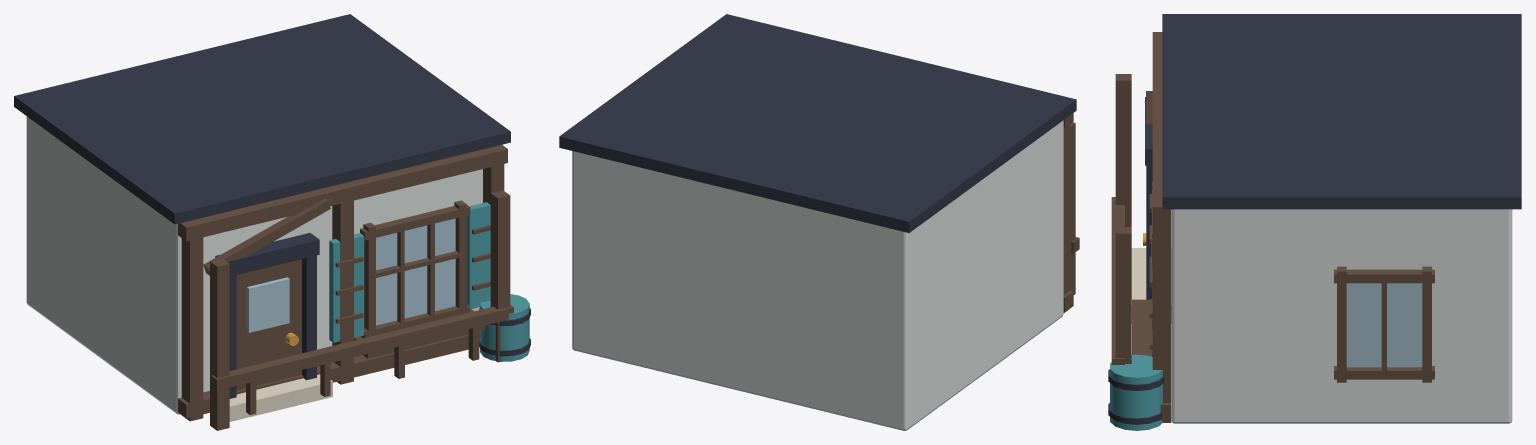
File: floor_banks_0.glb
3 renders of one model, left to right at view 1: azimuth 30°, elevation 25°; view 2: azimuth 150°, elevation 25°; view 3: azimuth 270°, elevation 25°, orthographic. The views are drawn at different scales.
Parts seen in each view (by area): view 1: floor_banks_0 ink, floor_banks_0 wood, floor_banks_0 plaster, floor_banks_0 glass, floor_banks_0 river, floor_banks_0 mist; view 2: floor_banks_0 plaster, floor_banks_0 ink, floor_banks_0 wood; view 3: floor_banks_0 ink, floor_banks_0 plaster, floor_banks_0 wood, floor_banks_0 glass, floor_banks_0 river, floor_banks_0 mist.
Part boxes in pixels (x1=…): floor_banks_0 ink: x1=14, y1=14, x2=530, y2=398; floor_banks_0 wood: x1=178, y1=145, x2=513, y2=430; floor_banks_0 plaster: x1=26, y1=116, x2=482, y2=414; floor_banks_0 glass: x1=246, y1=218, x2=455, y2=332; floor_banks_0 river: x1=329, y1=202, x2=529, y2=361; floor_banks_0 mist: x1=229, y1=374, x2=332, y2=421; floor_banks_0 plaster: x1=572, y1=120, x2=1063, y2=430; floor_banks_0 ink: x1=559, y1=14, x2=1076, y2=232; floor_banks_0 wood: x1=1063, y1=113, x2=1079, y2=312; floor_banks_0 ink: x1=1108, y1=14, x2=1521, y2=424; floor_banks_0 plaster: x1=1171, y1=209, x2=1512, y2=423; floor_banks_0 wood: x1=1111, y1=32, x2=1434, y2=422; floor_banks_0 glass: x1=1346, y1=283, x2=1422, y2=367; floor_banks_0 river: x1=1110, y1=354, x2=1162, y2=430; floor_banks_0 mist: x1=1131, y1=248, x2=1171, y2=323.
Size of the model in its own units: 0.8345 by 0.48 by 0.7761.
